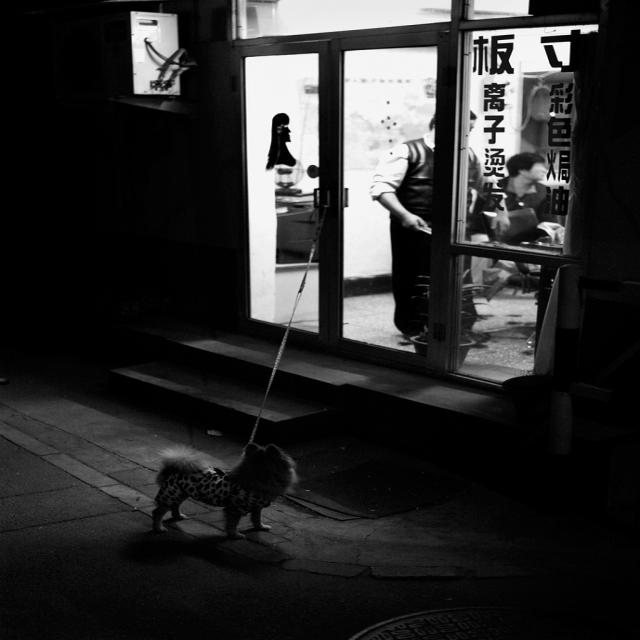Dog: (107, 402, 316, 558)
